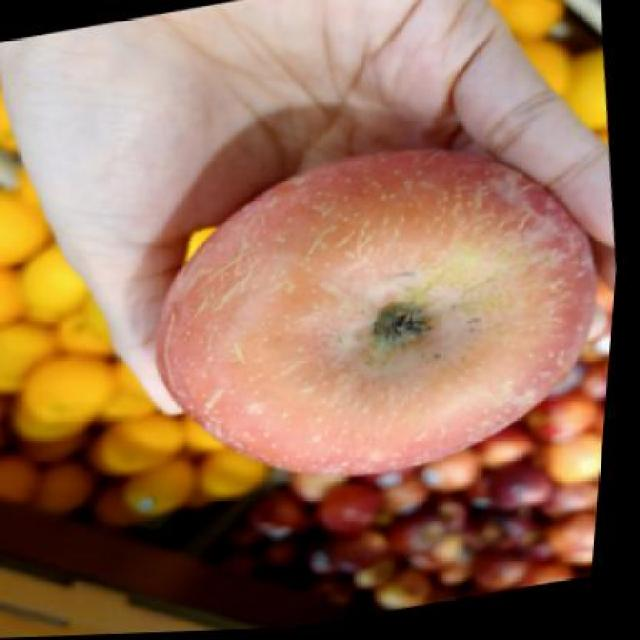Fresh Apple: (171, 163, 571, 465)
